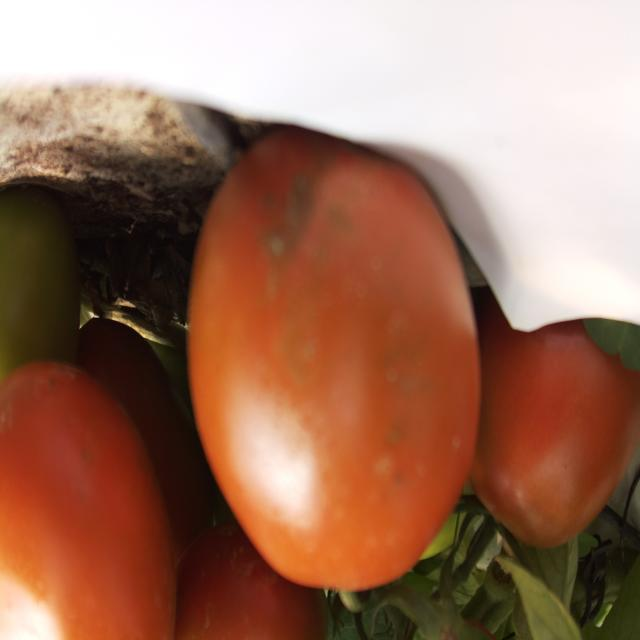kirmizi: (172, 128, 518, 640)
